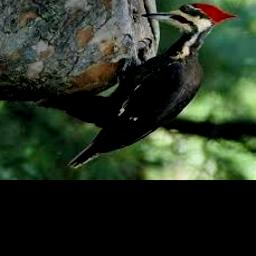Woodpecker: (66, 3, 237, 167)
